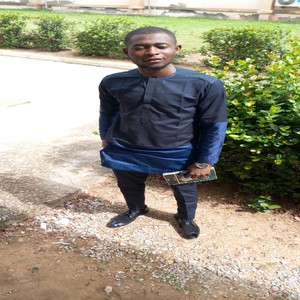Fulokoja_male_student: (100, 27, 207, 239)
